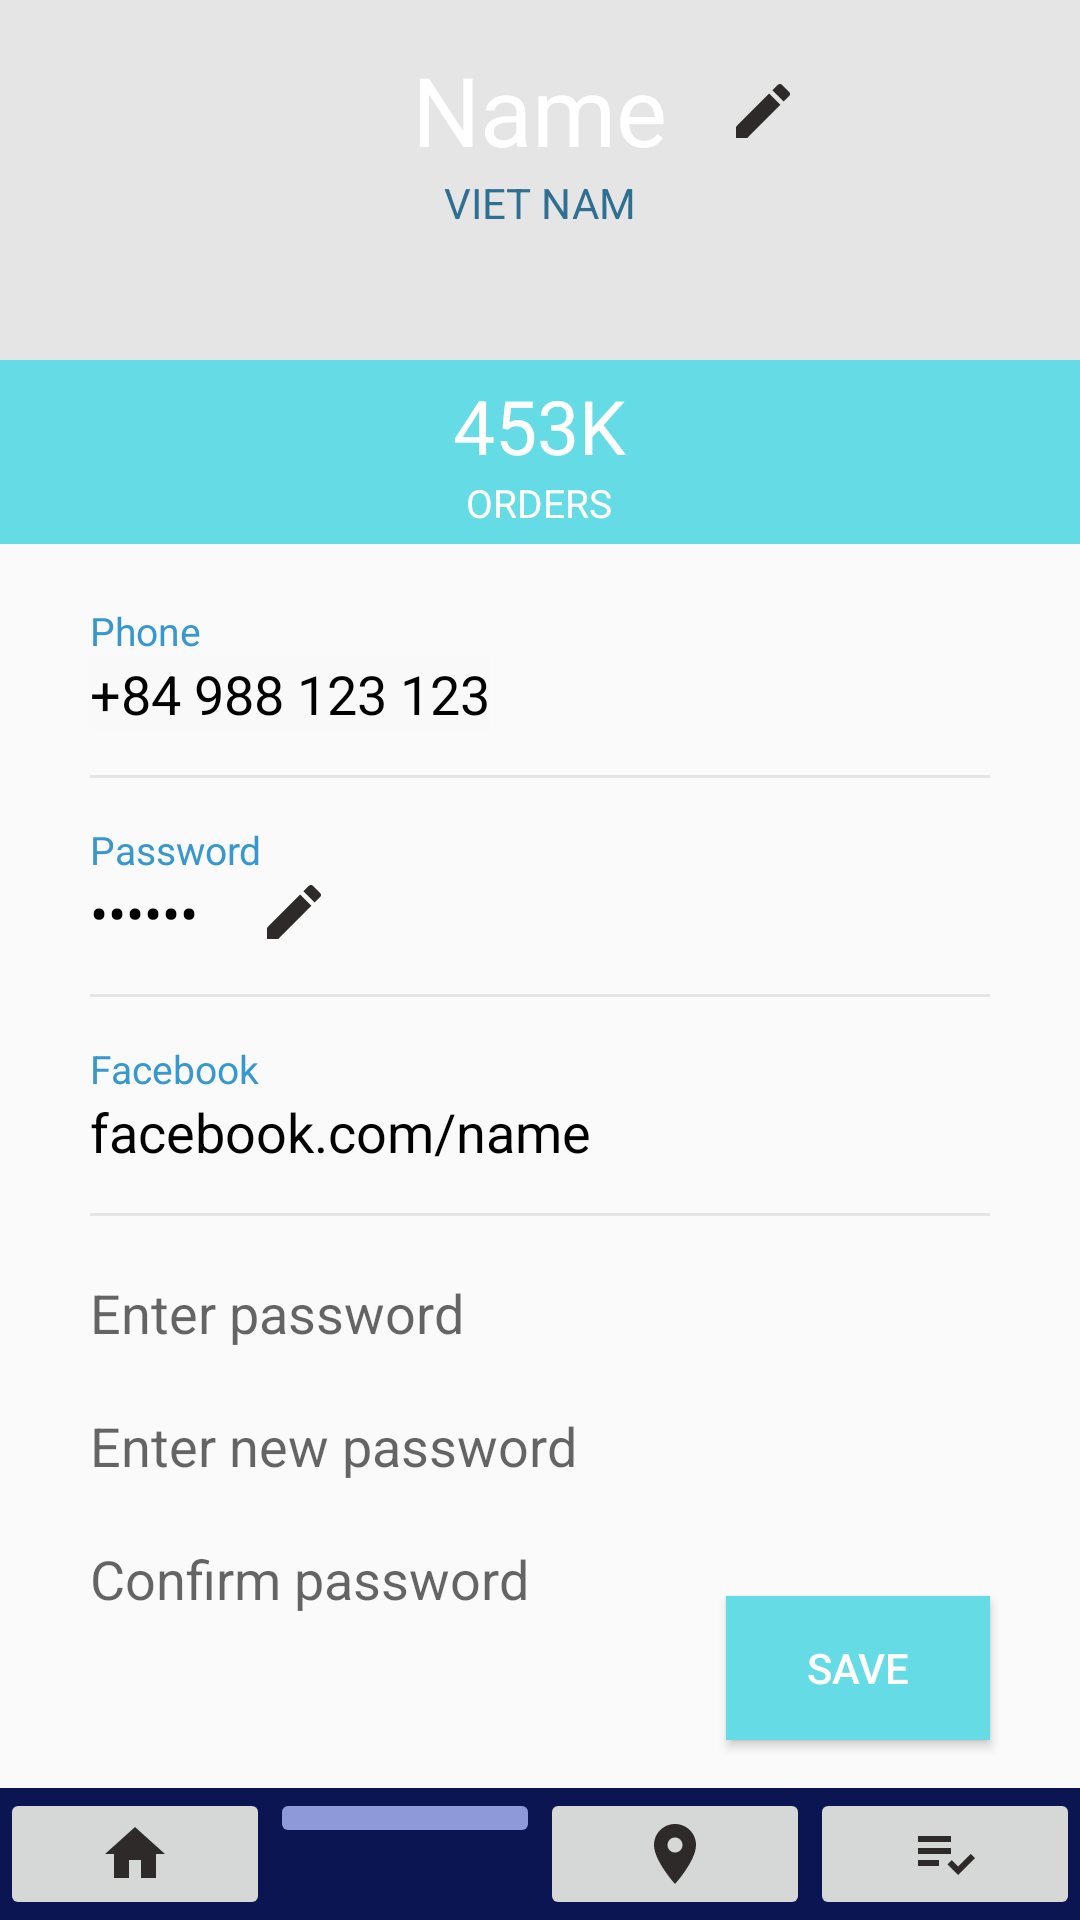

Icons on this 1080*1920 Android screen, each with its box as (x1, y1, x2, y2):
edit: (736, 84, 790, 138)
home: (12, 1806, 258, 1902)
location on: (552, 1806, 798, 1902)
playlist add check: (822, 1806, 1068, 1902)
